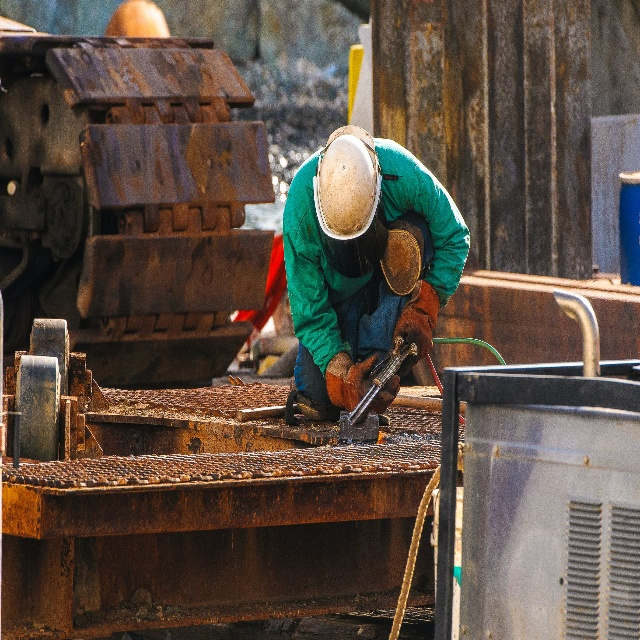Guantes: (391, 279, 440, 381), (325, 352, 401, 417)
